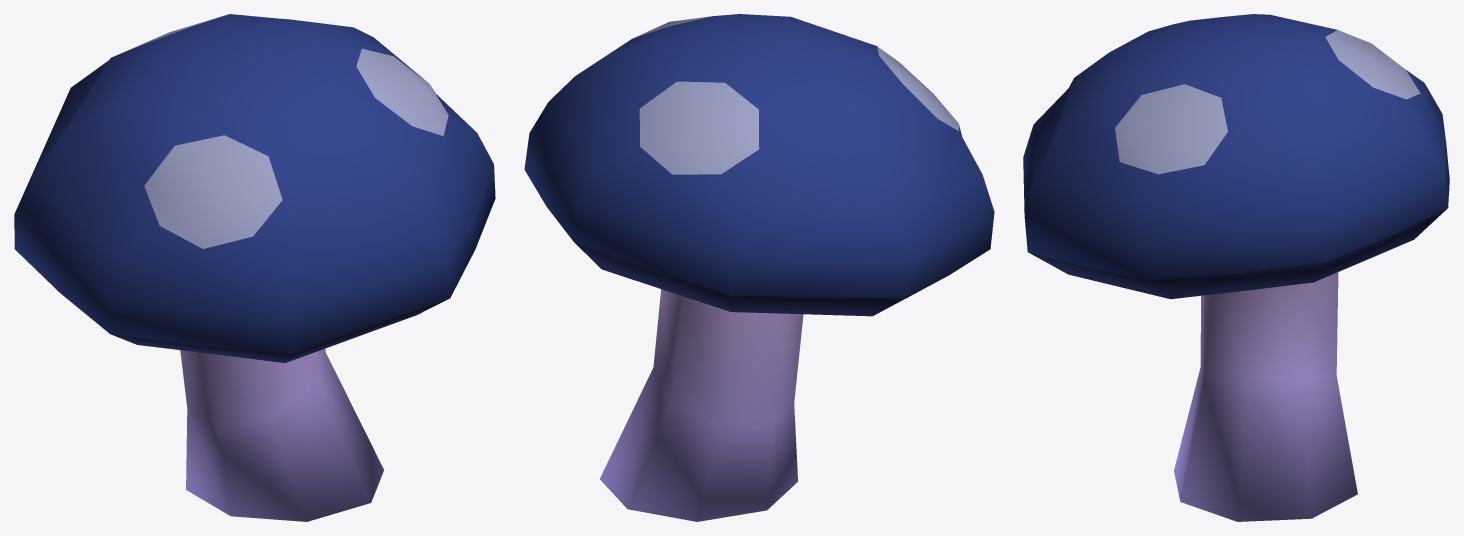
The model's file is BlueShroom3.fbx.
The picture shows the model from 3 angles, left to right: view 1: azimuth 30°, elevation 25°; view 2: azimuth 150°, elevation 25°; view 3: azimuth 270°, elevation 25°; orthographic projection. The views are drawn at different scales.
Visible parts, largest first — view 1: Sphere.101; view 2: Sphere.101; view 3: Sphere.101.
Part boxes in pixels (bbox=[...]): Sphere.101: bbox=[14, 14, 495, 521]; Sphere.101: bbox=[524, 14, 994, 521]; Sphere.101: bbox=[1023, 14, 1449, 521].
Bounding box in the file's own units: 124 × 123 × 136.
